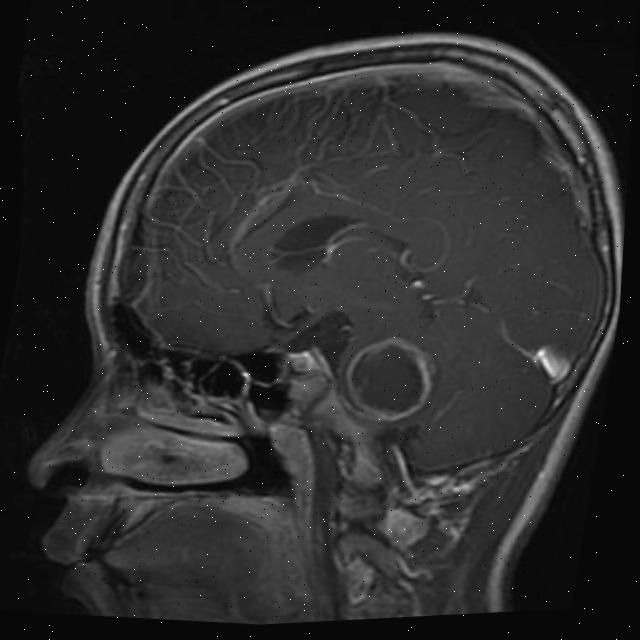Glioma: (335, 327, 443, 431)
